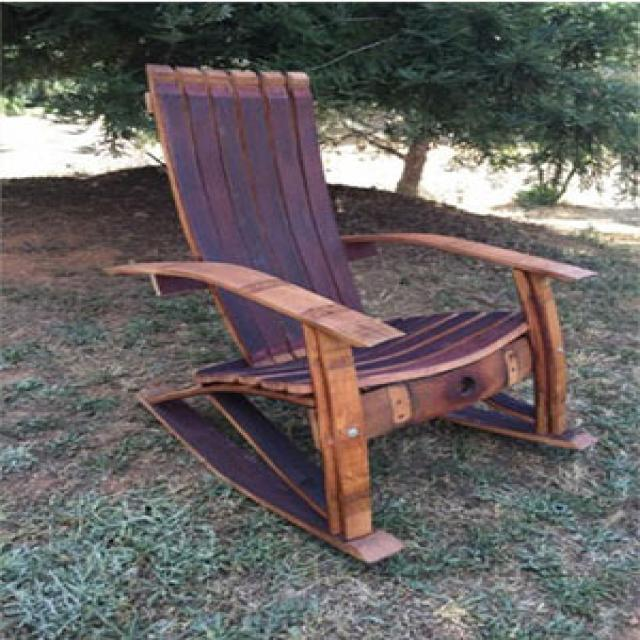Woods: (111, 65, 595, 565)
